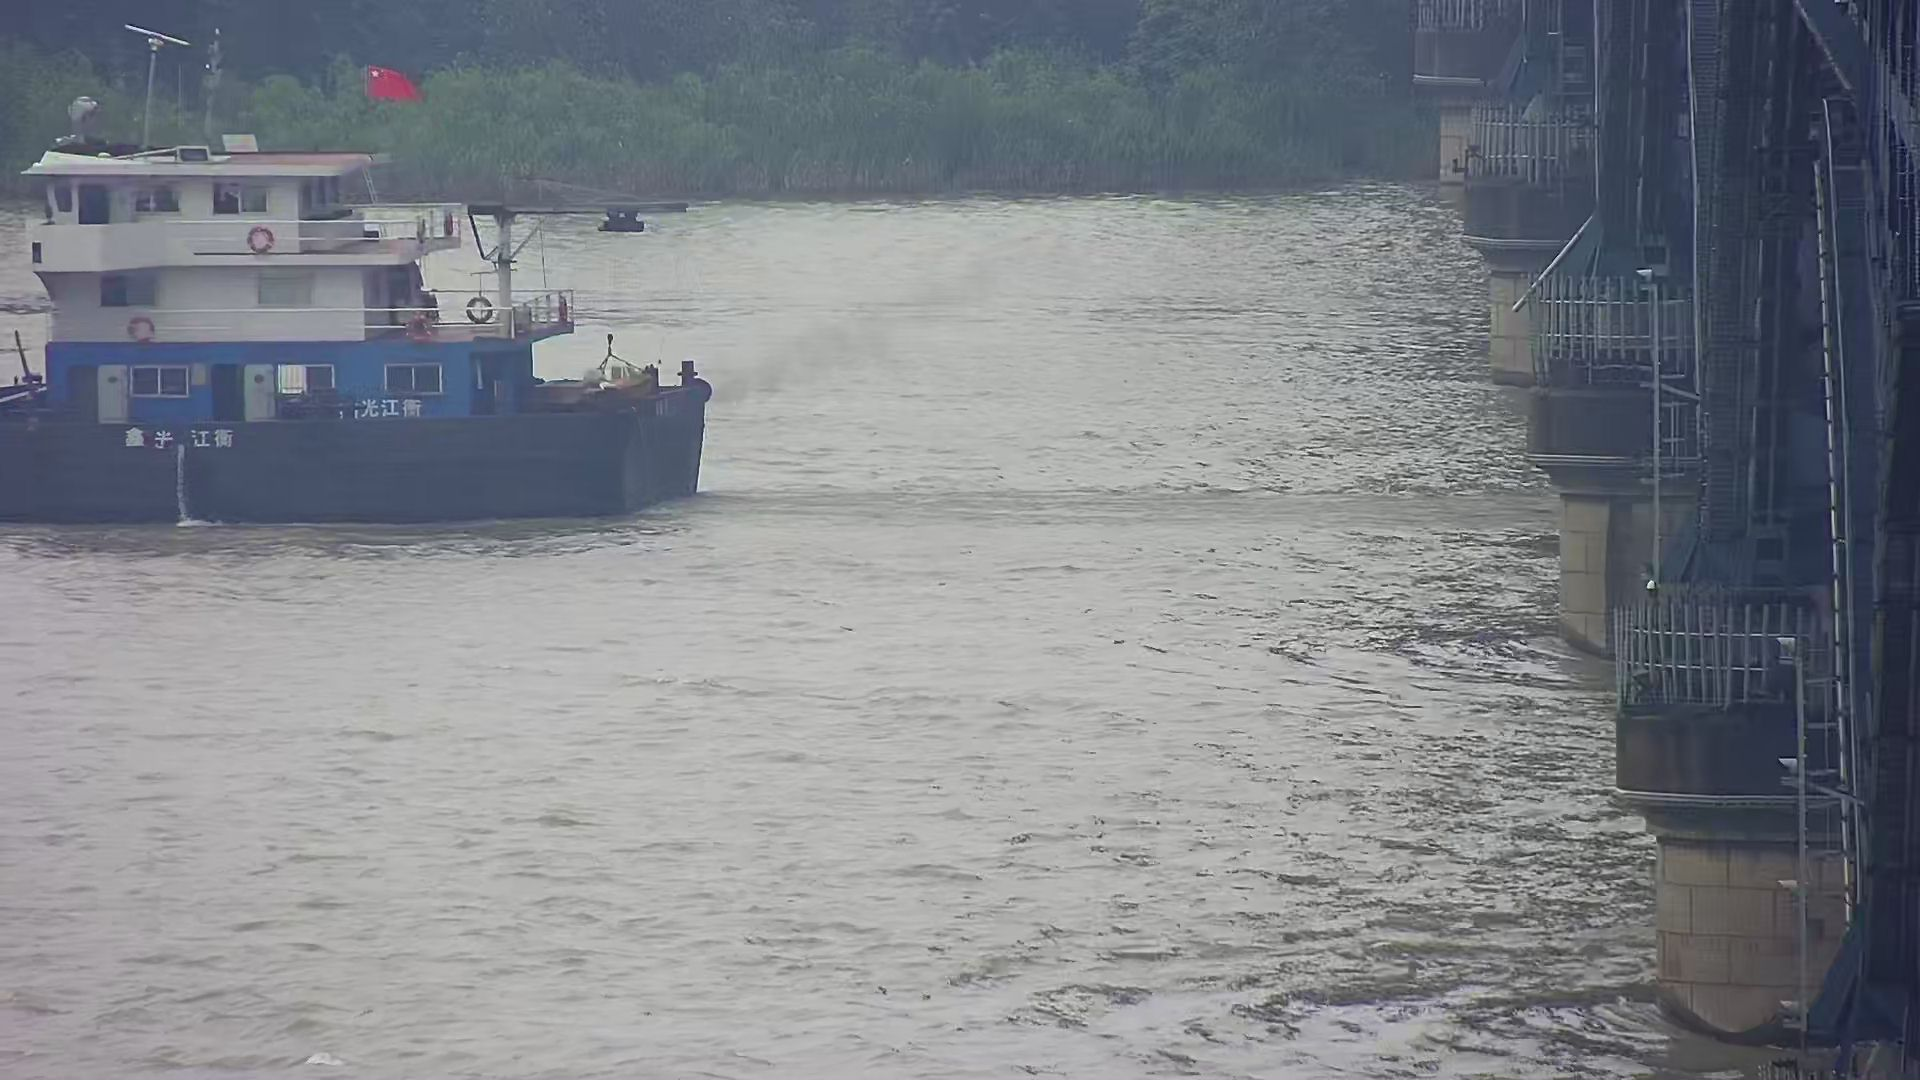bridge: (1402, 1, 1912, 1077)
ship: (1, 92, 711, 541)
